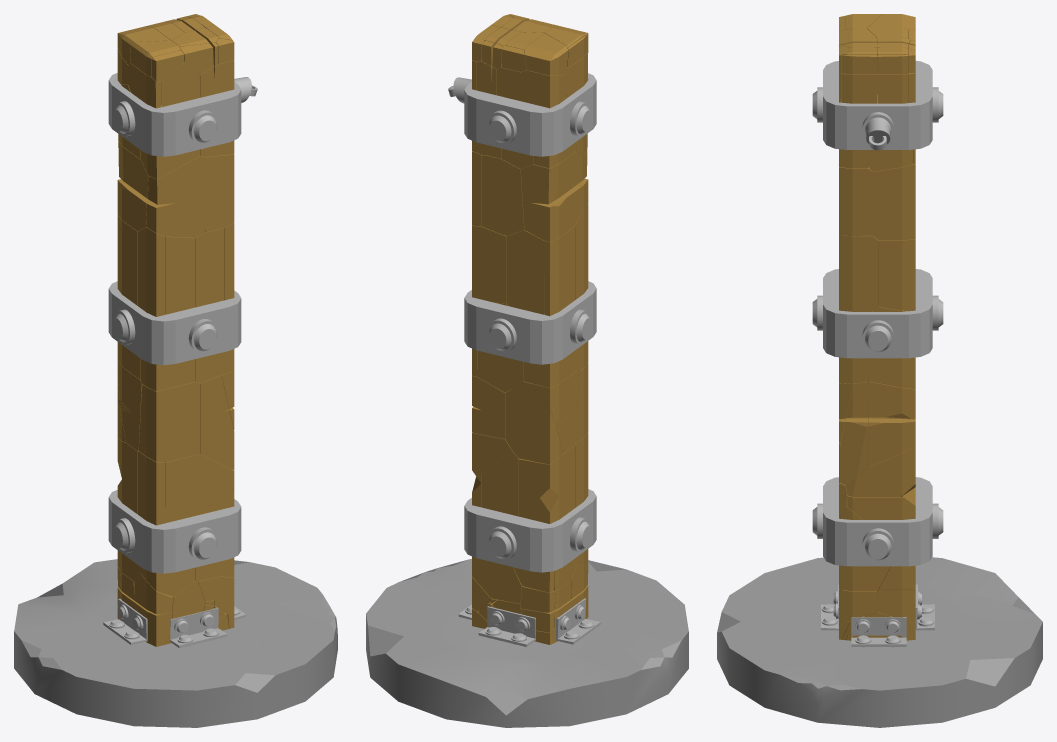
The picture shows the model from 3 angles, left to right: view 1: azimuth 30°, elevation 25°; view 2: azimuth 150°, elevation 25°; view 3: azimuth 270°, elevation 25°; orthographic projection.
Parts seen in each view (by area): view 1: Circle.011, Cube.012, Cube.011, Cube.013, Cube.146_cell.213, Cube.146_cell.252, Cube.146_cell.251, Cube.146_cell.262, Cube.146_cell.219, Cube.146_cell.239, Cube.146_cell.283, Cube.146_cell.292 (+24 smaller); view 2: Circle.011, Cube.012, Cube.011, Cube.013, Cube.146_cell.287, Cube.146_cell.246, Cube.146_cell.271, Cube.146_cell.284, Cube.146_cell.285, Cube.146_cell.222, Cube.146_cell.268, Cube.146_cell.306 (+20 smaller); view 3: Circle.011, Cube.013, Cube.012, Cube.011, Cube.146_cell.240, Cube.146_cell.261, Cube.146_cell.217, Cube.146_cell.222, Cube.146_cell.283, Cube.146_cell.257, Cube.146_cell.243, Plane.023 (+16 smaller).
Boxes of the visible parts, x1,y1,x2,y2 form: Circle.011: (14,559,337,727); Cube.012: (108,73,257,156); Cube.011: (108,490,241,573); Cube.013: (108,281,241,365); Cube.146_cell.213: (139,382,199,462); Cube.146_cell.252: (146,156,204,237); Cube.146_cell.251: (165,454,234,522); Cube.146_cell.262: (200,375,234,470); Cube.146_cell.219: (138,227,165,316); Cube.146_cell.239: (165,236,194,314); Cube.146_cell.283: (205,154,234,232); Cube.146_cell.292: (195,228,224,307); Circle.011: (366,559,688,727); Cube.012: (448,73,596,156); Cube.011: (464,489,596,572); Cube.013: (464,281,596,364); Cube.146_cell.287: (521,151,583,241); Cube.146_cell.246: (518,445,574,523); Cube.146_cell.271: (505,384,563,464); Cube.146_cell.284: (506,230,544,314); Cube.146_cell.285: (482,155,524,235); Cube.146_cell.222: (472,225,506,303); Cube.146_cell.268: (544,226,574,316); Cube.146_cell.306: (515,370,578,453); Circle.011: (717,557,1042,727); Cube.013: (812,269,943,358); Cube.012: (812,61,943,150); Cube.011: (812,477,943,566); Cube.146_cell.240: (868,381,915,466); Cube.146_cell.261: (873,164,915,240); Cube.146_cell.217: (839,235,878,311); Cube.146_cell.222: (878,239,915,311); Cube.146_cell.283: (839,167,873,235); Cube.146_cell.257: (840,381,868,485); Cube.146_cell.243: (846,446,915,496); Plane.023: (851,616,906,647).
Size of the model in its own units: 195 by 413 by 195.
